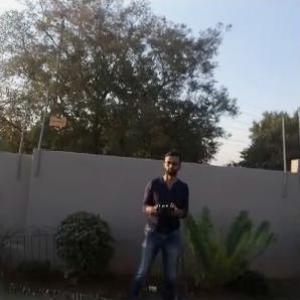follow: (125, 144, 192, 299)
